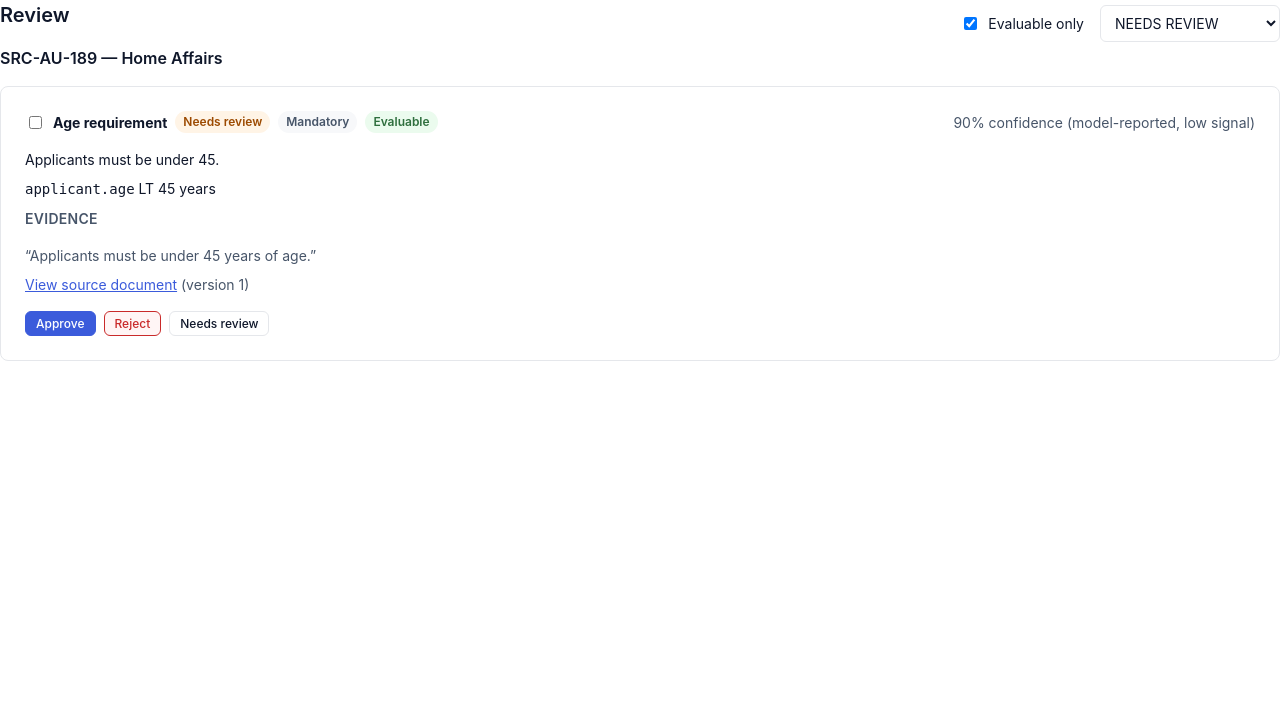
ReviewPage approve flow › supports multi-select with a confirm dialog stating the count
The width and height of the screenshot is (1280, 720).
expect the text "Age requirement" is shown: met, box [53, 112, 167, 132]
Click the checkbox named "select age requirement": coordinates (36, 122) [29, 116, 42, 128]
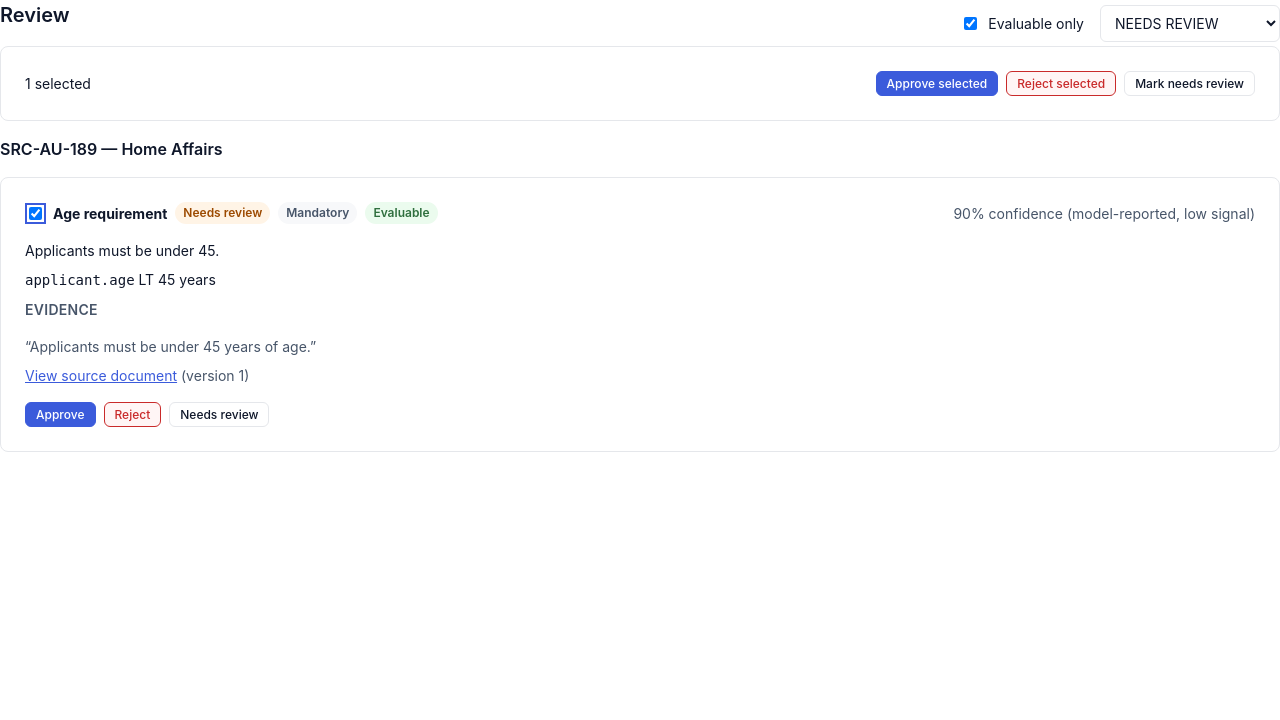
expect the text "1 selected" is shown: met, box [25, 73, 91, 94]
Click the button "Approve selected": coordinates (937, 84) [876, 71, 998, 96]
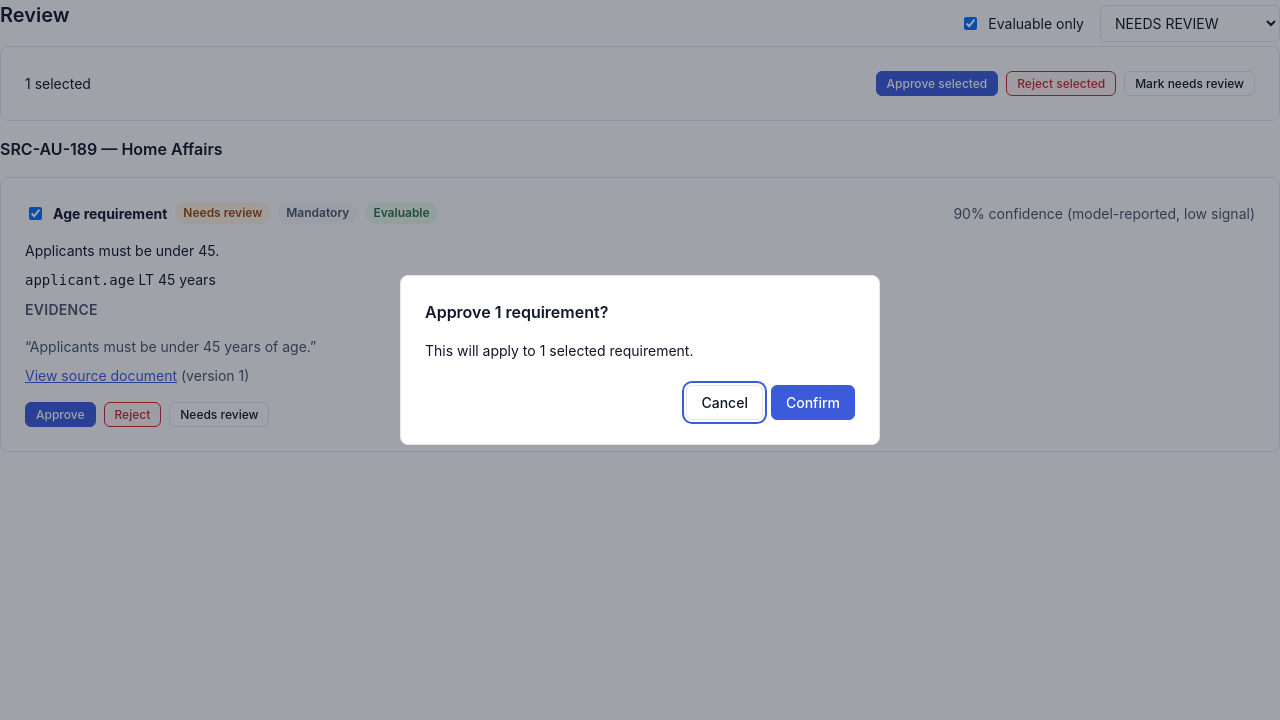
expect the heading "Approve 1 requirement?" is shown: met, box [425, 302, 608, 322]
